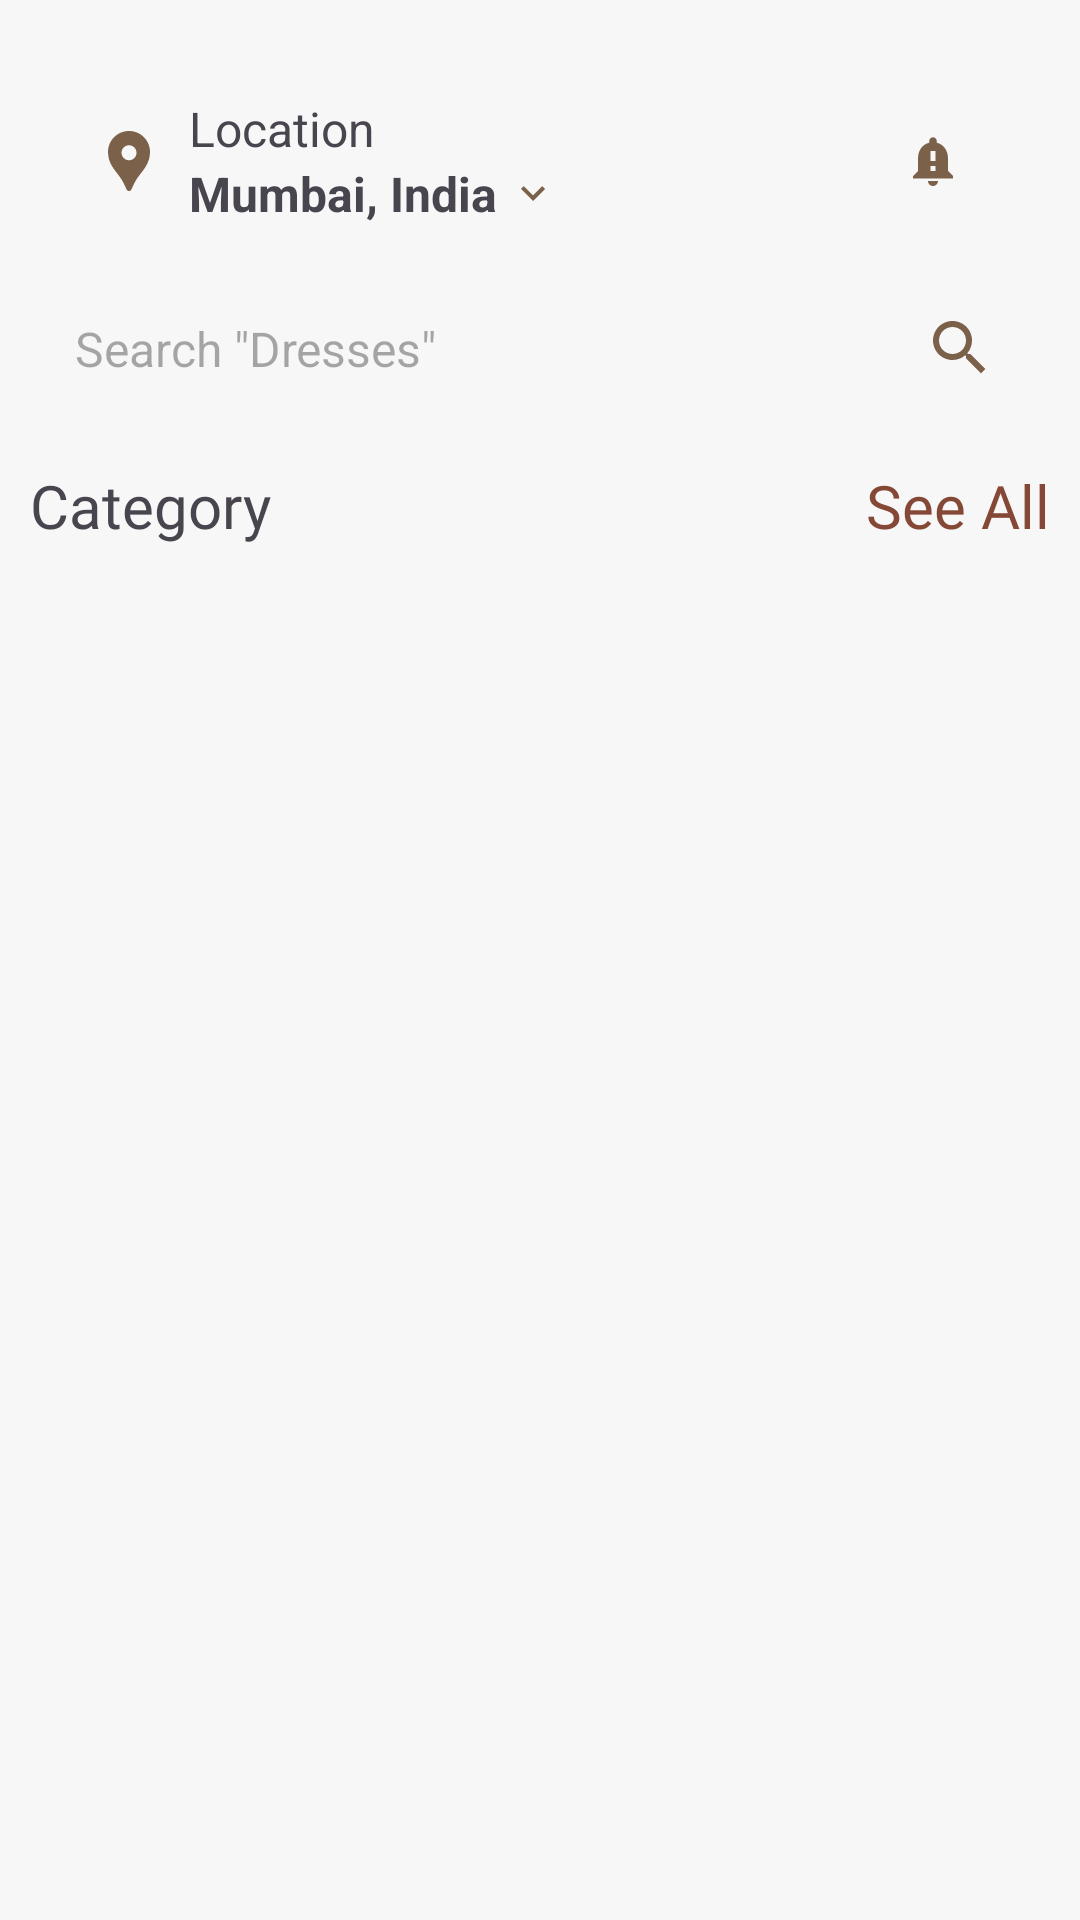

Named icons in this screenshot (1080×1920) and their bounding boxes, (x1, y1, x2, y2):
down: (521, 186, 545, 201)
notification: (913, 137, 953, 186)
